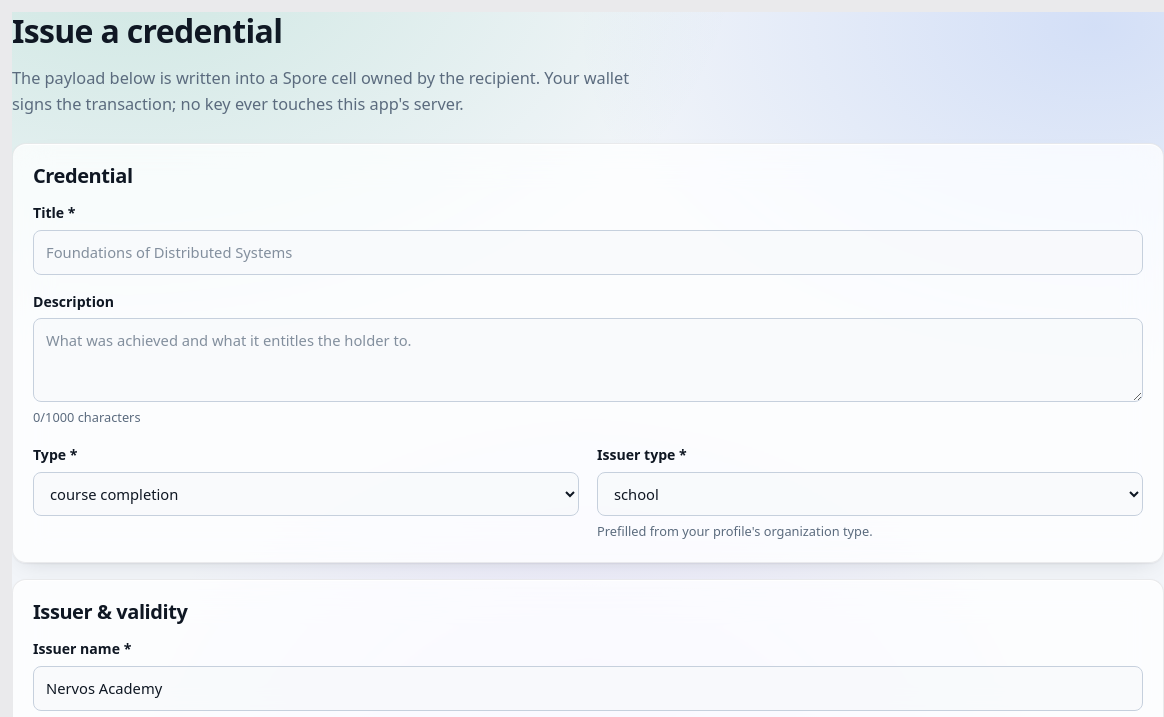
IssuePage profile prefill › keeps an edited issuer type after the session arrives
This screenshot has width=1164, height=717.
Select "company" in the dropdown labelled "Issuer type *" at {"x": 870, "y": 494}, box [597, 472, 1143, 516]
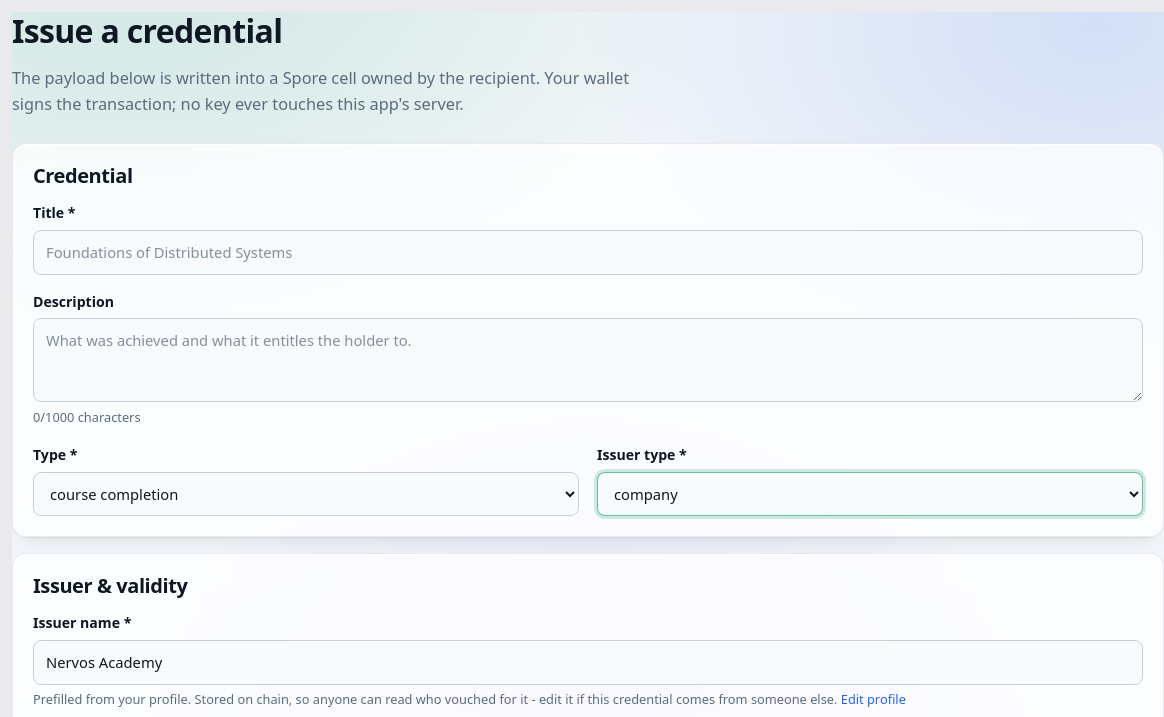
Result: the text "organization type" is gone
